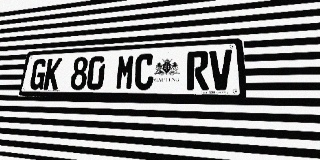0: (86, 56, 106, 90)
8: (69, 57, 89, 90)
C: (134, 53, 155, 90)
G: (29, 59, 48, 90)
K: (43, 58, 62, 90)
M: (115, 54, 136, 90)
R: (187, 51, 209, 90)
V: (209, 49, 233, 90)
